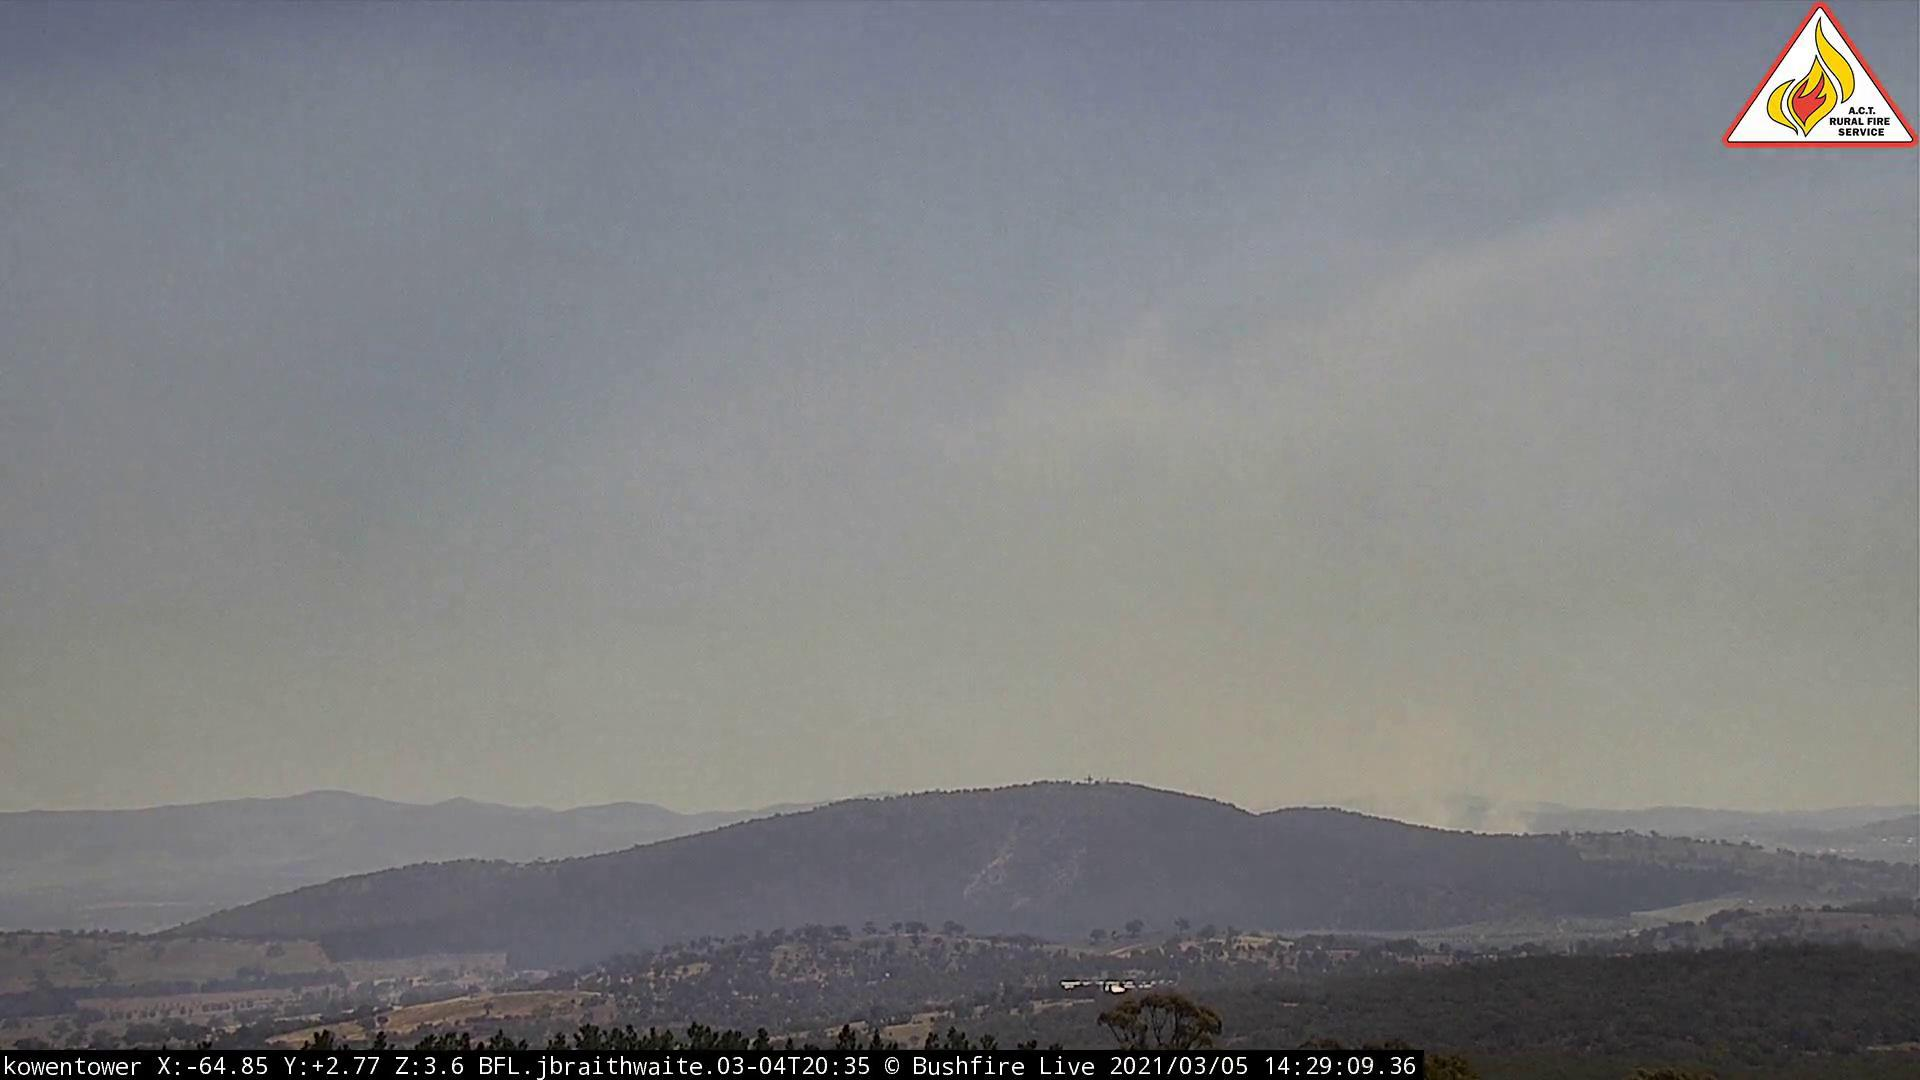Smoke: (1054, 538, 1545, 848)
